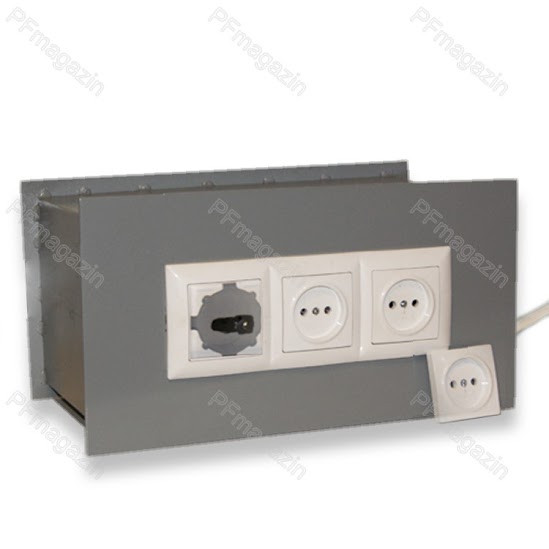raccoon: (291, 283, 341, 338), (381, 276, 429, 330), (444, 354, 485, 406)
